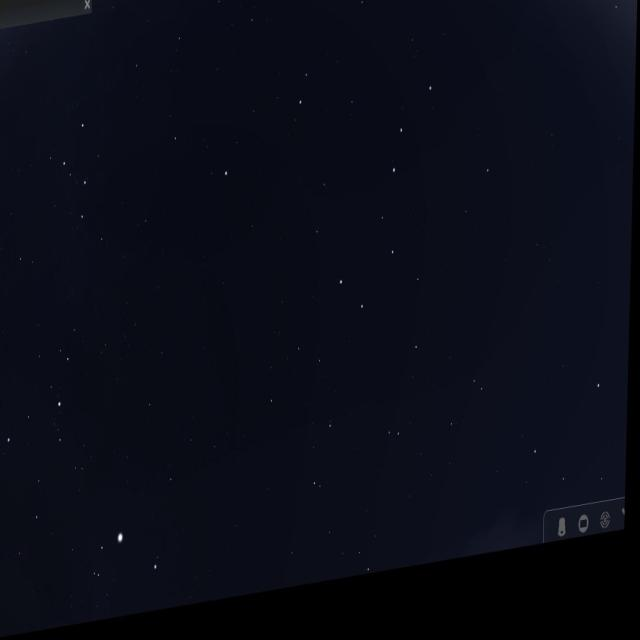cassiopeia: (58, 102, 129, 279)
ursa_major: (333, 86, 437, 340)
